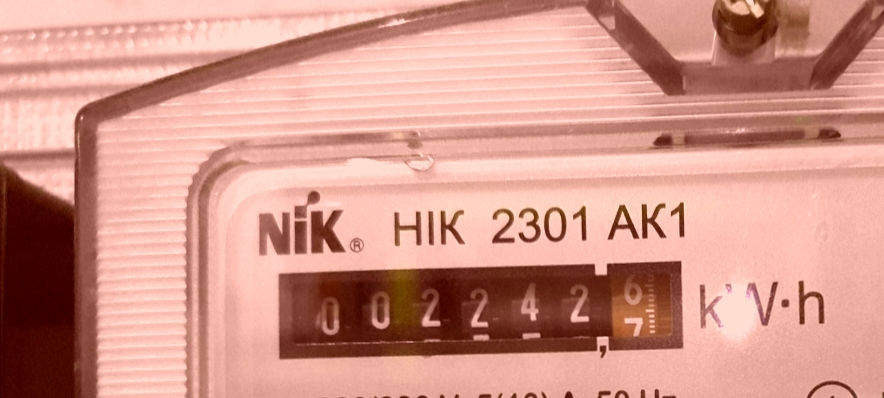0: (366, 287, 391, 330), (317, 292, 340, 337), (417, 285, 441, 328)
2: (565, 281, 590, 324), (466, 285, 490, 329)
4: (516, 279, 539, 323)
6: (620, 272, 644, 305)
7: (620, 315, 643, 337)
screen: (266, 249, 698, 373)
